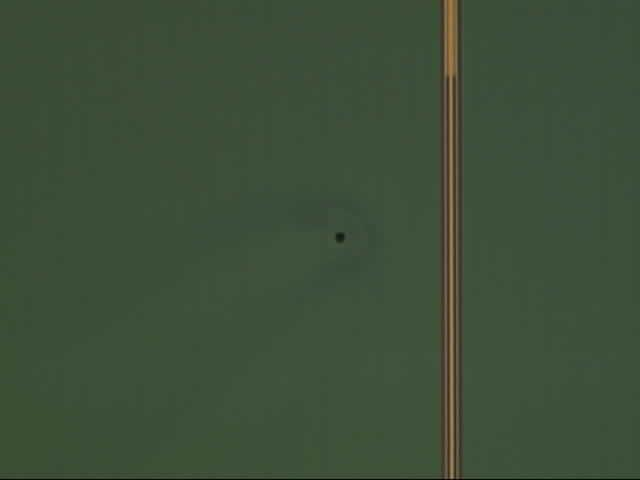PIQ PARTICLE: (331, 228, 351, 248)
